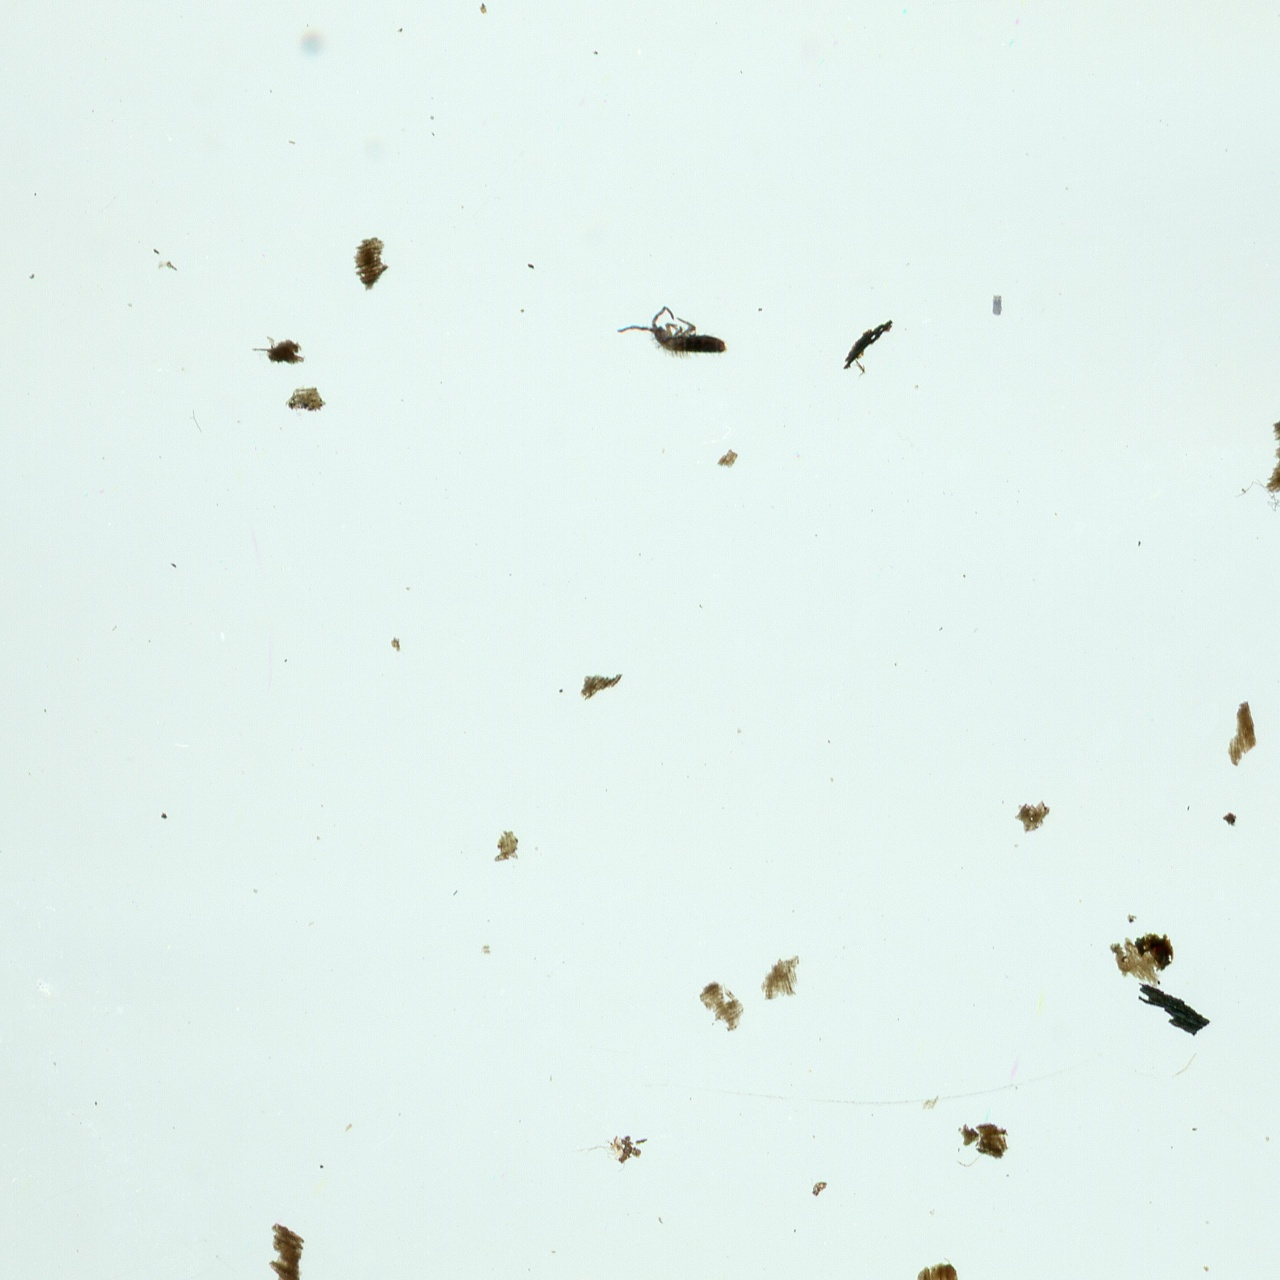arthropod: (613, 302, 733, 363)
